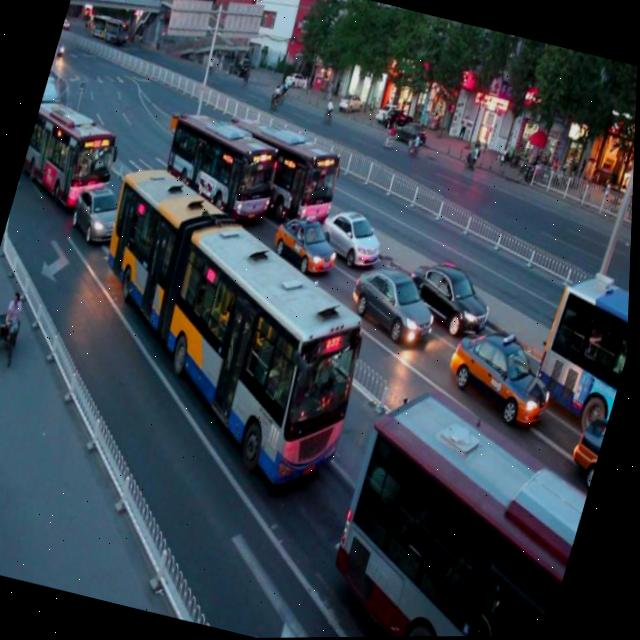car: (437, 319, 566, 438), (340, 253, 445, 352), (400, 252, 502, 342), (264, 203, 346, 282), (311, 197, 390, 274), (66, 178, 134, 251), (567, 404, 614, 483)
van: (50, 151, 406, 498), (315, 380, 609, 638), (150, 99, 291, 236), (212, 106, 352, 235), (529, 270, 632, 428), (18, 90, 128, 206)
